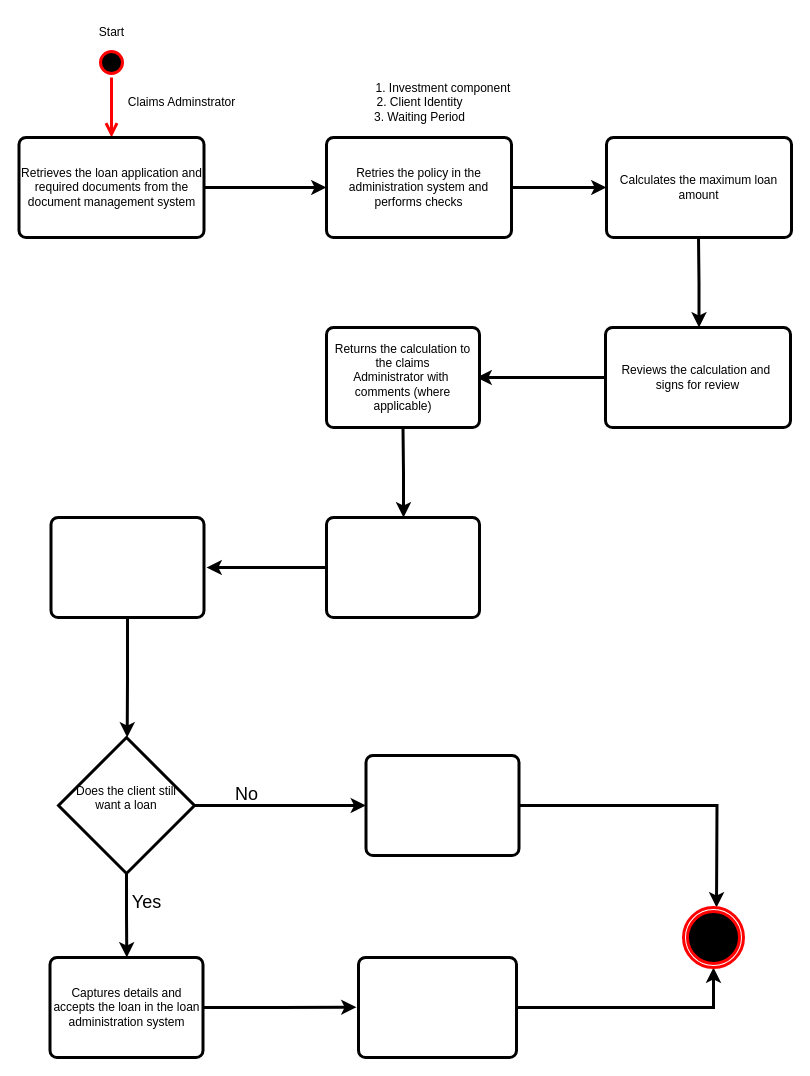
Image size: 810x1076. Some labels were removed from this diagram. The box of each missing label's shape, as (x1, y1, x2, y2) in pixels:
Communicates maximum loan amount to client: (324, 516, 480, 618)
Confirms desired loan amount: (49, 516, 205, 618)
Loan Application Closed: (364, 754, 520, 856)
Prints out a statement not outstanding loan: (356, 956, 518, 1058)
